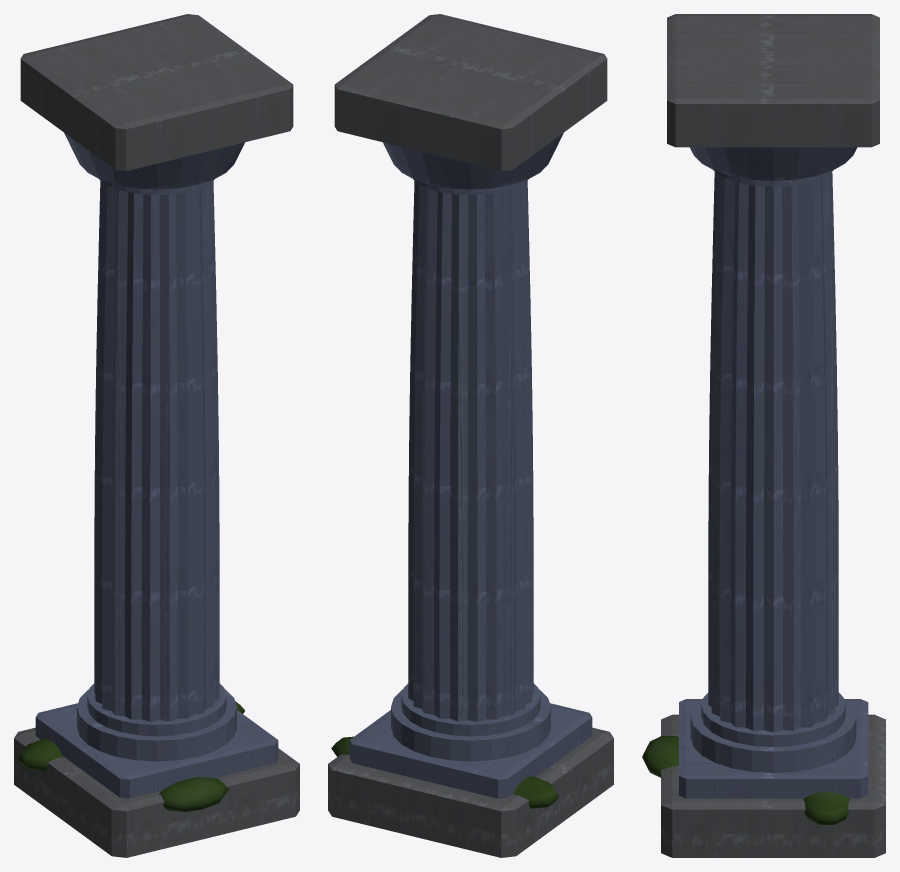
Rendered from column.glb.
The picture shows the model from 3 angles, left to right: view 1: azimuth 30°, elevation 25°; view 2: azimuth 150°, elevation 25°; view 3: azimuth 270°, elevation 25°; orthographic projection. The views are drawn at different scales.
Visible parts, largest first — view 1: box; view 2: box; view 3: box.
Boxes of the visible parts, x1,y1,x2,y2 form: box: [14, 14, 299, 857]; box: [328, 14, 613, 857]; box: [642, 14, 885, 857].
Size of the model in its own units: 2.22 by 7.05 by 2.06.
3 materials, 3 textured.
